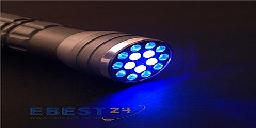LED: (104, 36, 177, 88)
